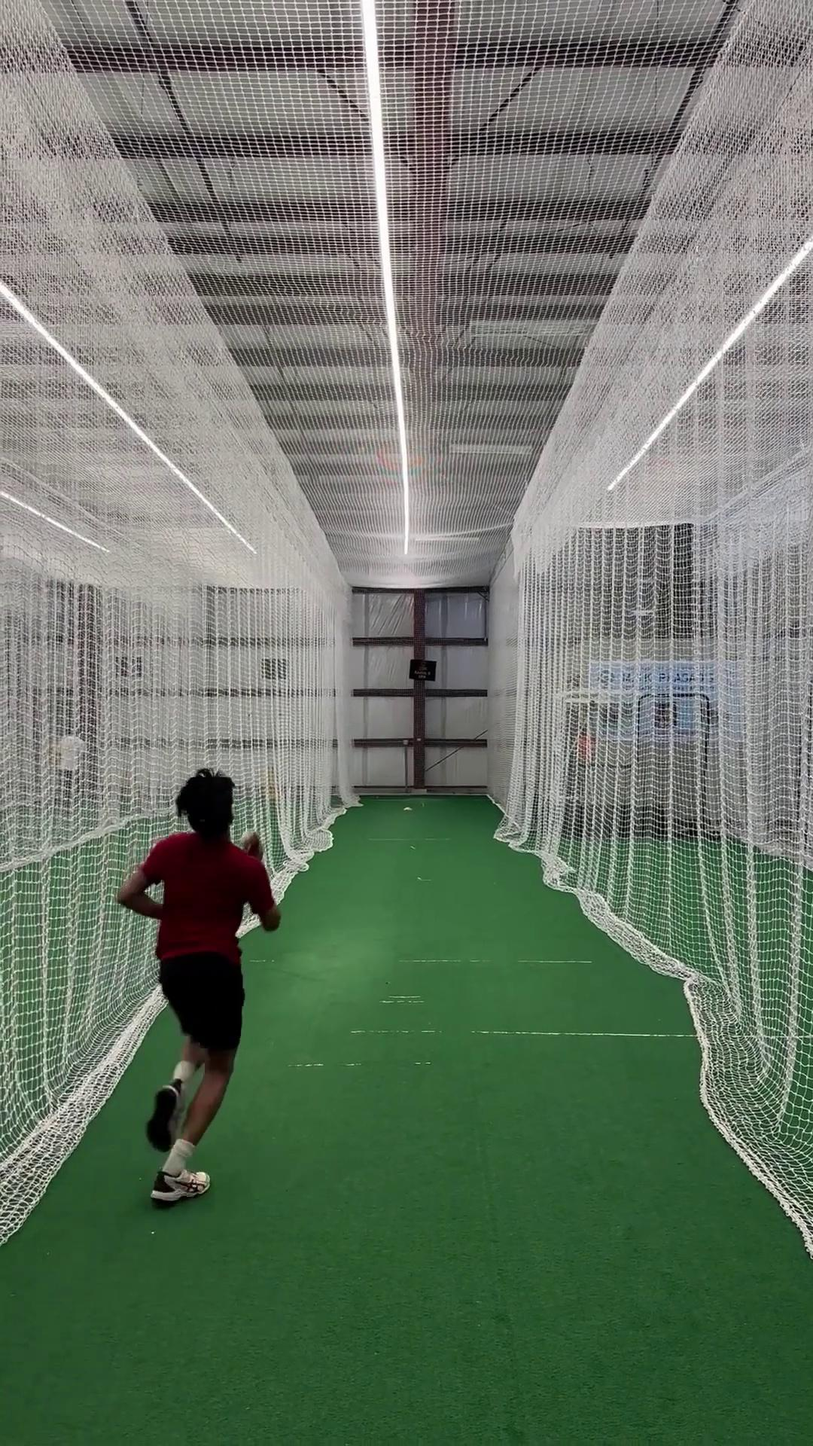ball: (233, 821, 262, 855)
